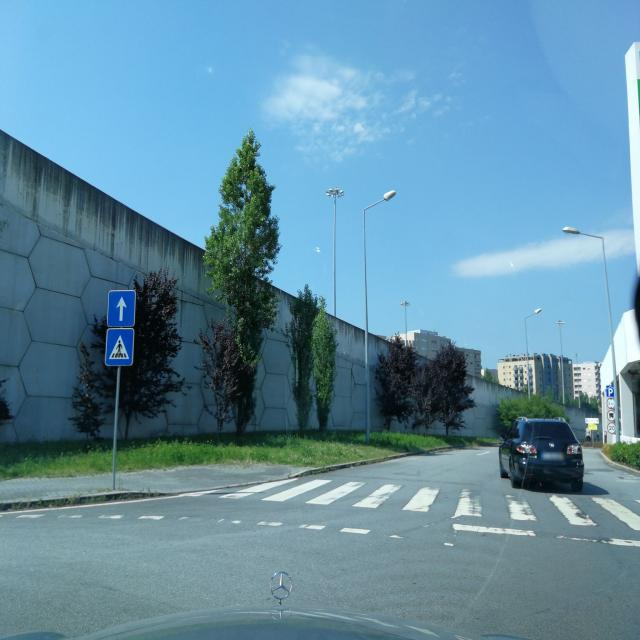car: (498, 416, 584, 492)
